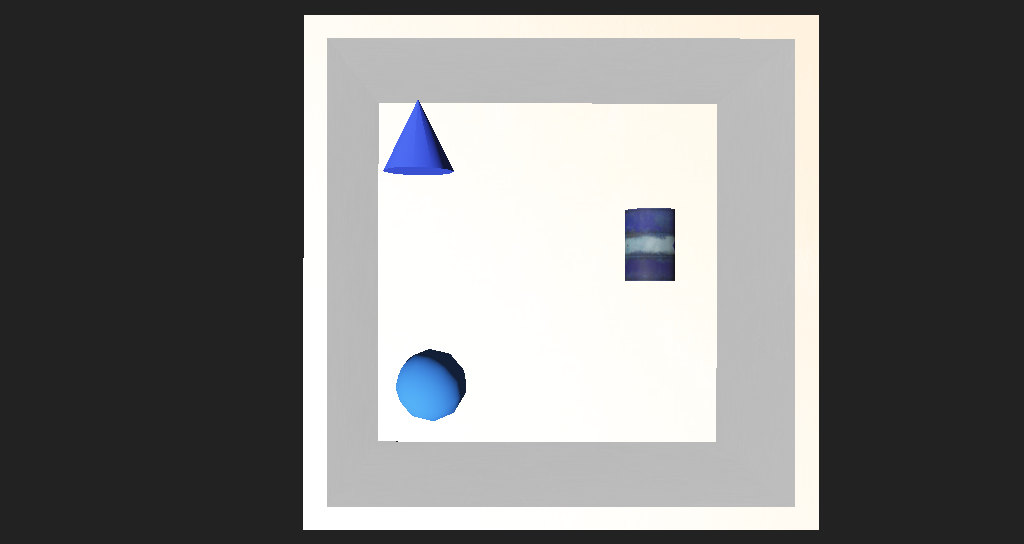cone: (576, 231, 623, 274)
cylinder: (354, 153, 428, 210)
sphere: (374, 315, 435, 363)
